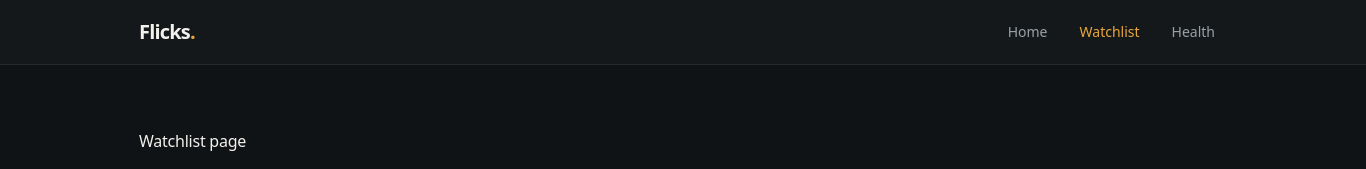
Test: AppLayout (legacy shell) › swaps the outlet content when a nav link is followed
Expected: the heading "Watchlist page" is shown, x1=139 y1=130 x2=246 y2=152
Click the link "Health" at (1193, 32), box x1=1172 y1=22 x2=1215 y2=41
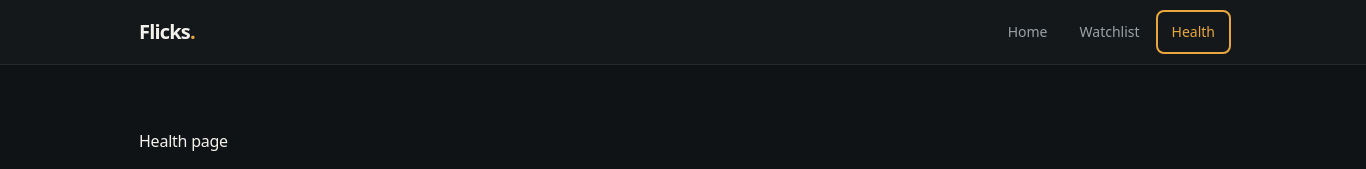
Now the heading "Health page" is shown, box x1=139 y1=130 x2=228 y2=152
Now the heading "Watchlist page" is gone
